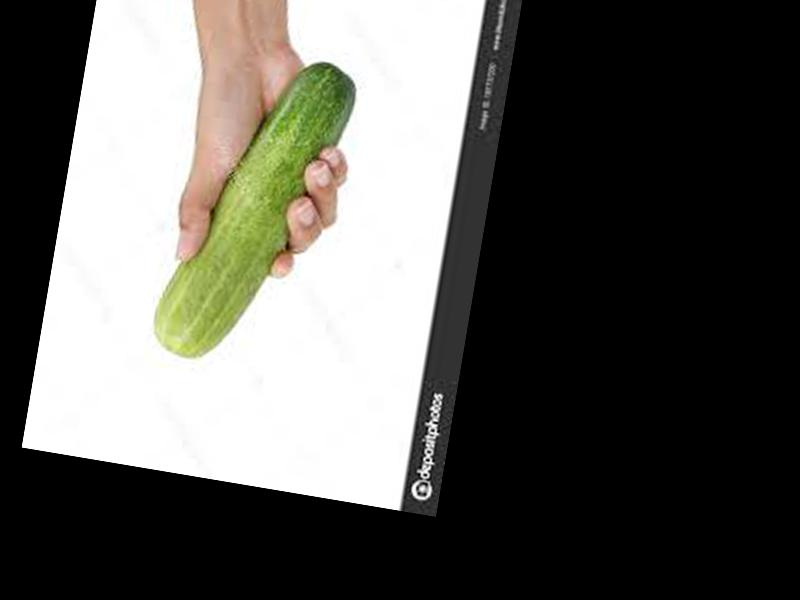Cucumber: (147, 40, 358, 376)
